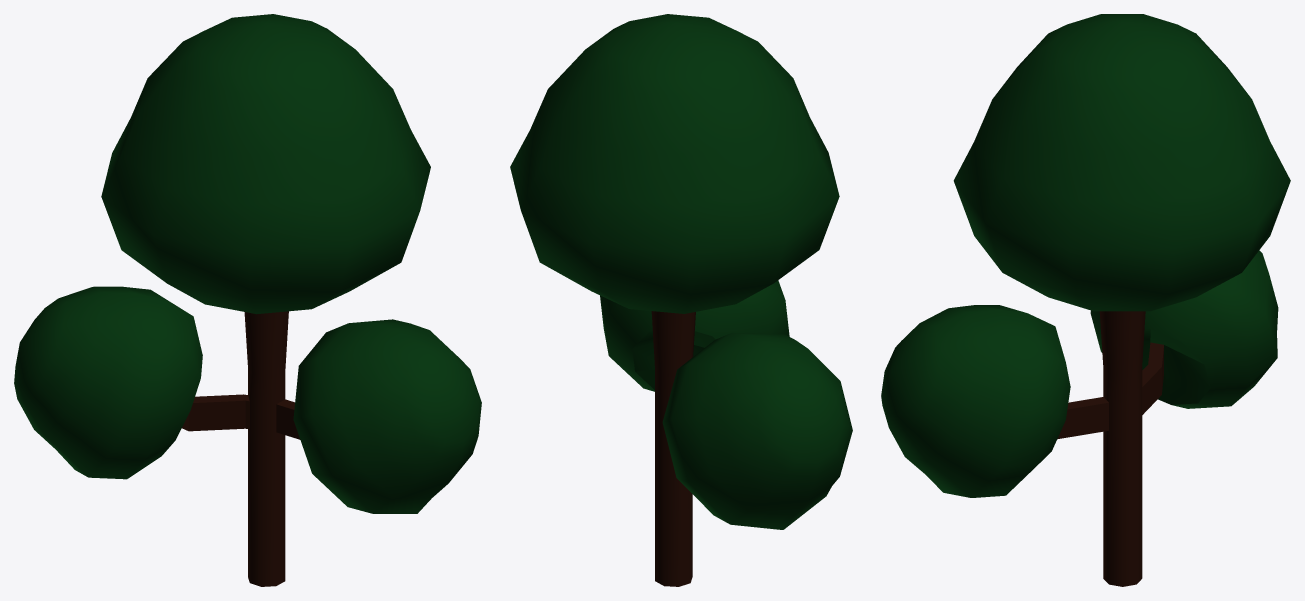
Rendered from lehti1.fbx.
3 views of the same model, side by side, from view 1: azimuth 30°, elevation 25°; view 2: azimuth 150°, elevation 25°; view 3: azimuth 270°, elevation 25° (orthographic).
Visible parts, largest first — view 1: lehti; view 2: lehti; view 3: lehti.
Boxes of the visible parts, box(x1,y1,x2,y2) form: lehti: box(14, 14, 481, 586); lehti: box(510, 14, 852, 586); lehti: box(881, 14, 1290, 586).
Size of the model in its own units: 674 by 1045 by 697.
